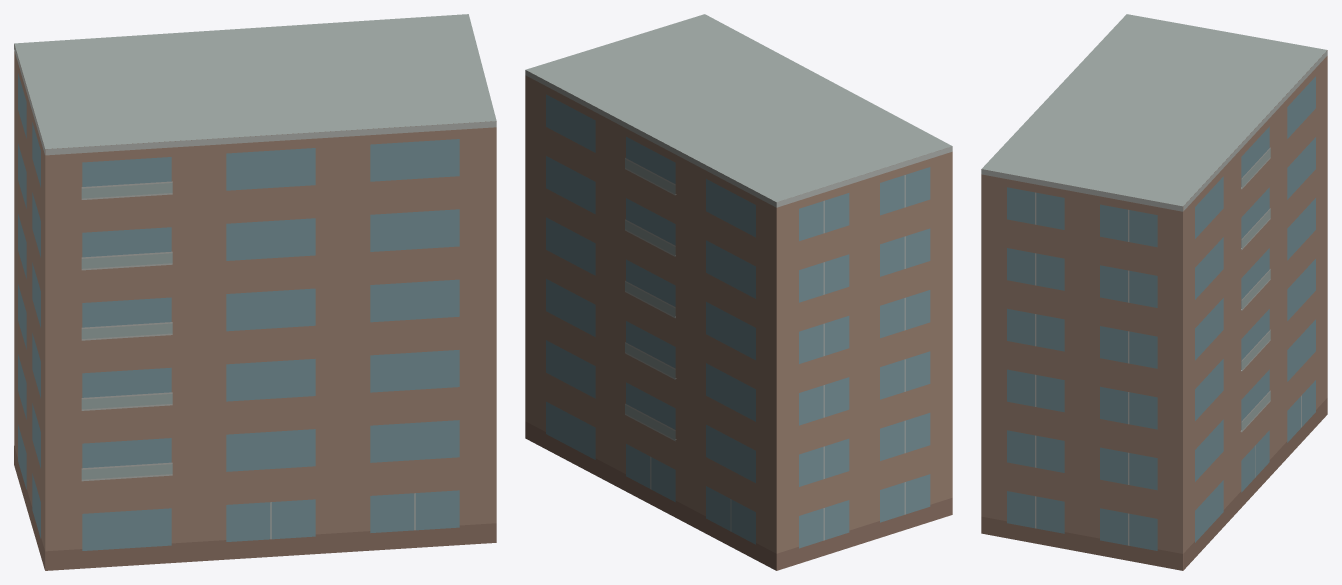
File: survey-upis-32968143.glb
3 views of the same model, side by side, from view 1: azimuth 30°, elevation 25°; view 2: azimuth 150°, elevation 25°; view 3: azimuth 270°, elevation 25° (orthographic). The views are drawn at different scales.
Visible parts, largest first — view 1: survey-upis-32968143.tmp; view 2: survey-upis-32968143.tmp; view 3: survey-upis-32968143.tmp.
Boxes of the visible parts, bbox=[...] form: survey-upis-32968143.tmp: bbox=[14, 14, 496, 570]; survey-upis-32968143.tmp: bbox=[525, 14, 952, 570]; survey-upis-32968143.tmp: bbox=[981, 14, 1327, 570].
Size of the model in its own units: 18.69 by 16.5 by 14.21.
